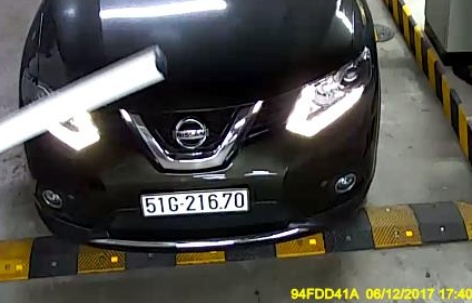plate: (135, 186, 253, 219)
